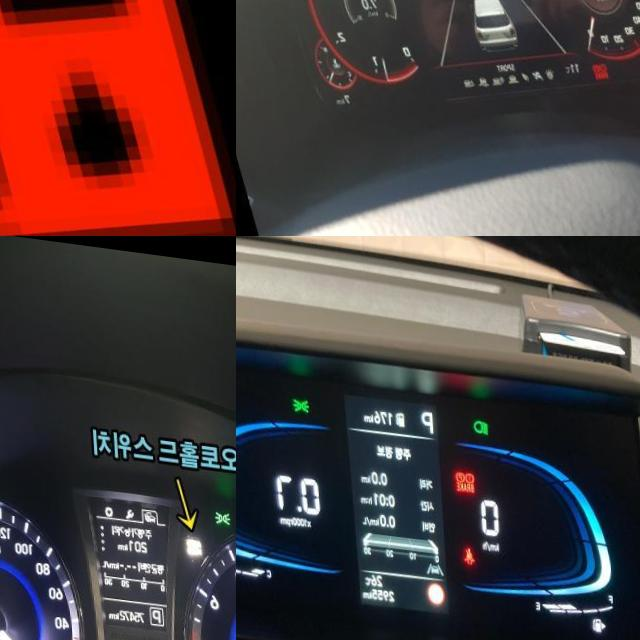Low beam: (471, 407, 487, 424)
Low fuel level: (0, 0, 236, 236)
SideLamp: (290, 391, 307, 408), (212, 500, 228, 517)
